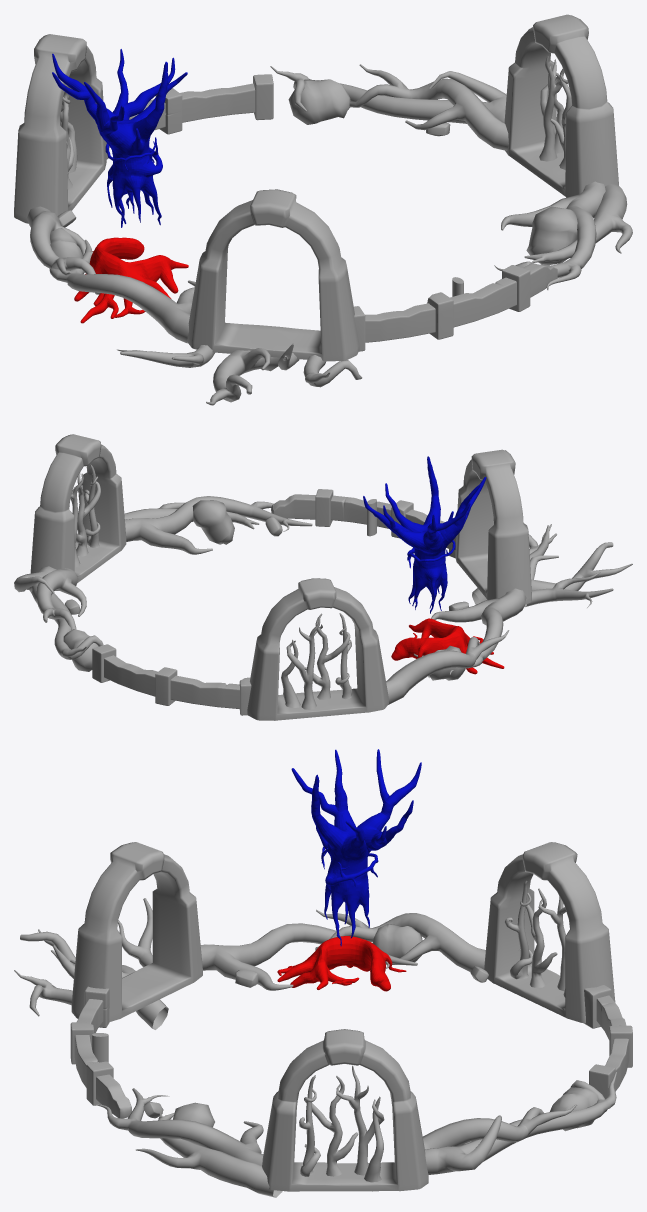
The model's file is Test_arene_tommy.fbx.
3 renders of one model, top to bottom at view 1: azimuth 30°, elevation 25°; view 2: azimuth 150°, elevation 25°; view 3: azimuth 270°, elevation 25°, orthographic. The views are drawn at different scales.
Parts seen in each view (by area): view 1: pCylinder116; view 2: pCylinder116; view 3: pCylinder116.
Part boxes in pixels (x1,y1,x2,y2): pCylinder116: (14,14,632,405); pCylinder116: (14,434,632,720); pCylinder116: (14,749,632,1197).
Bounding box in the file's own units: 4600 × 1962 × 4484.
